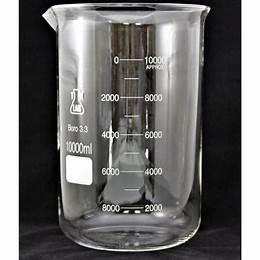Beaker: (40, 5, 207, 252)
